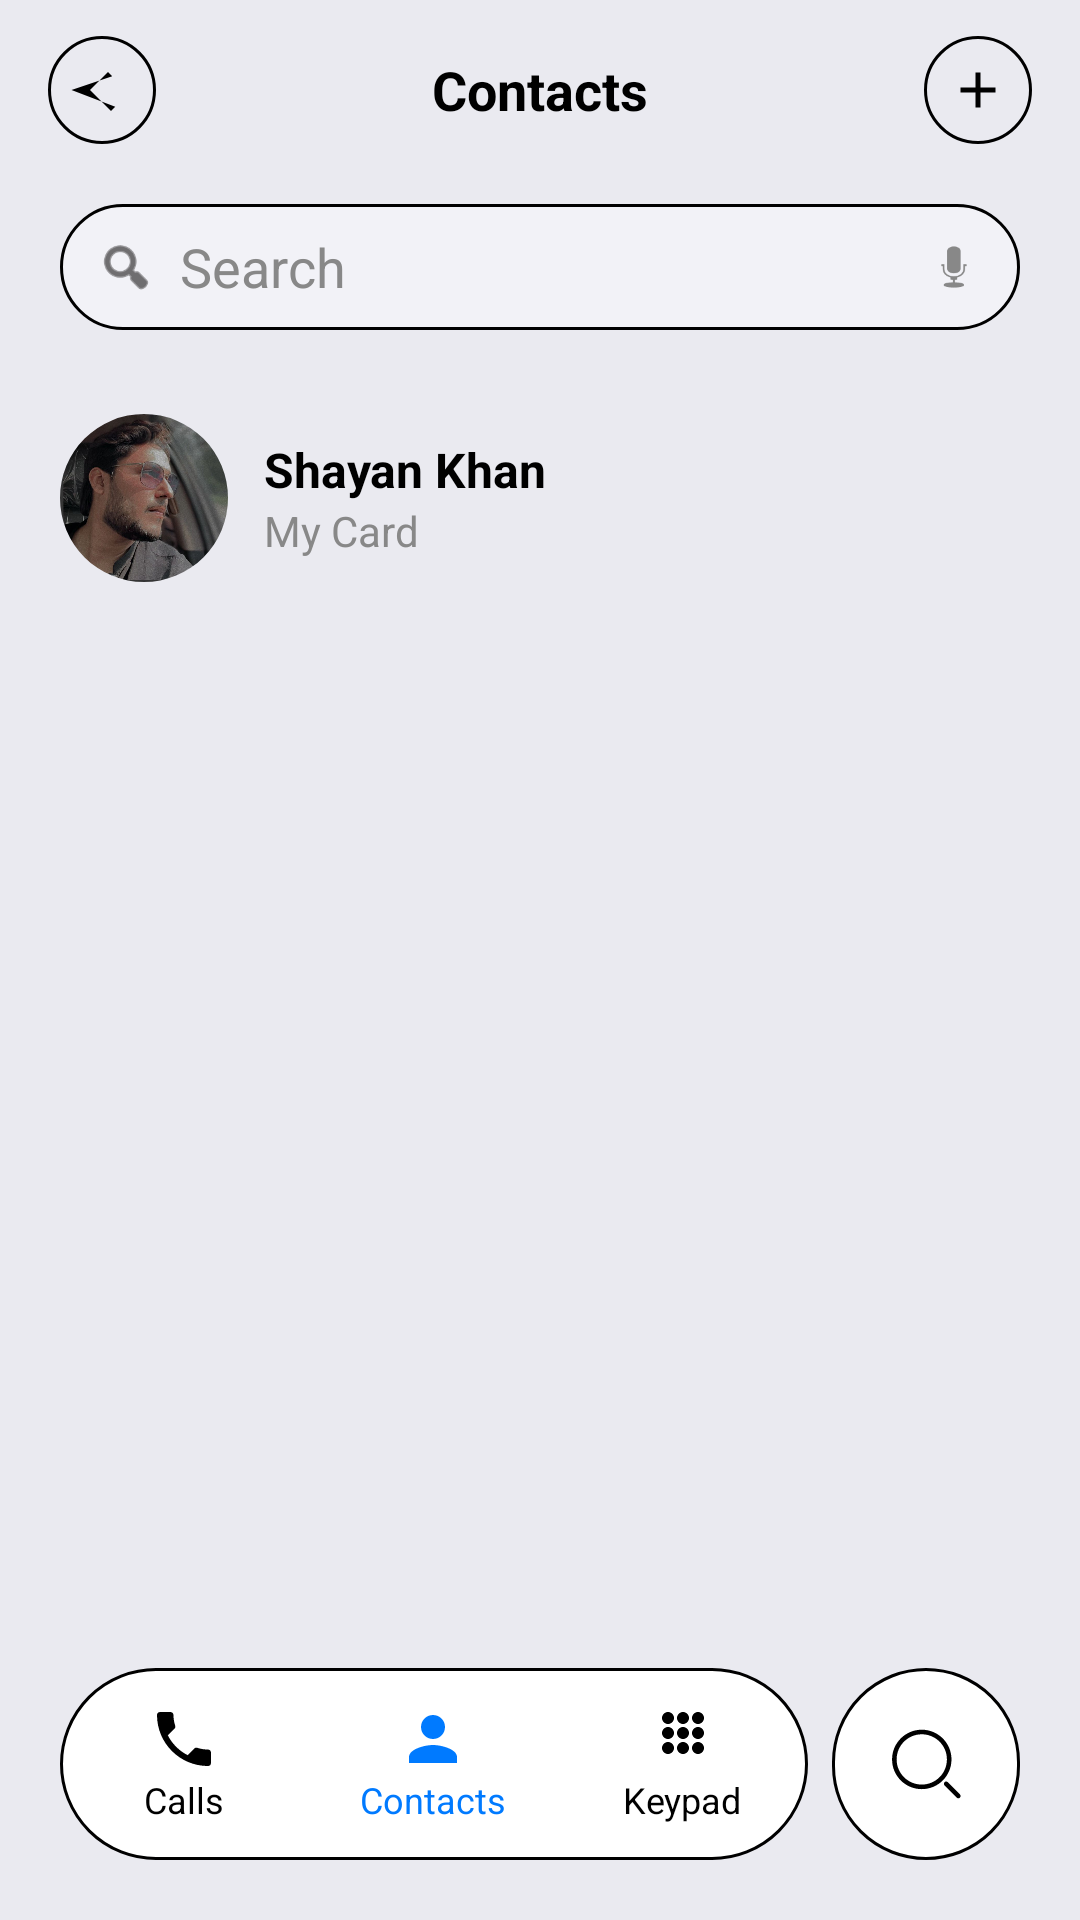

Icon click points for this 1080×1920 phone screenshot, format (x=x, y=y):
add: (x=978, y=90)
back arrow: (x=102, y=90)
profilepic: (x=144, y=498)
speak now: (x=954, y=267)
